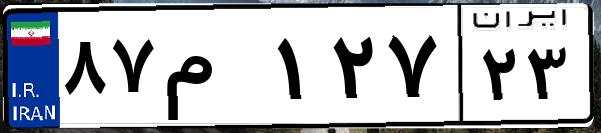1: (270, 28, 330, 110)
2: (330, 28, 385, 110), (475, 38, 525, 113)
3: (525, 38, 570, 115)
7: (385, 28, 445, 110), (110, 28, 158, 98)
8: (57, 26, 110, 100)
م: (158, 20, 270, 120)
